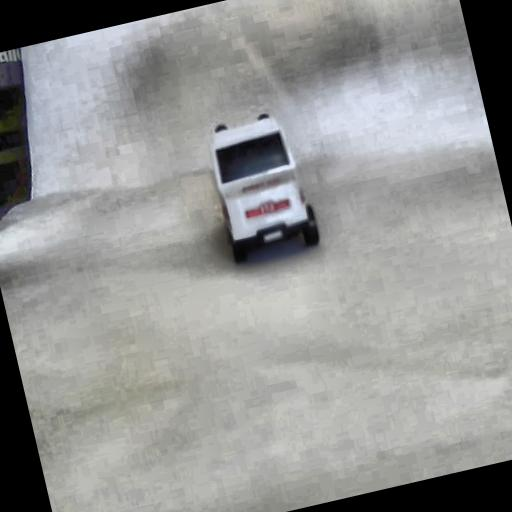ambulance: (200, 106, 321, 264)
